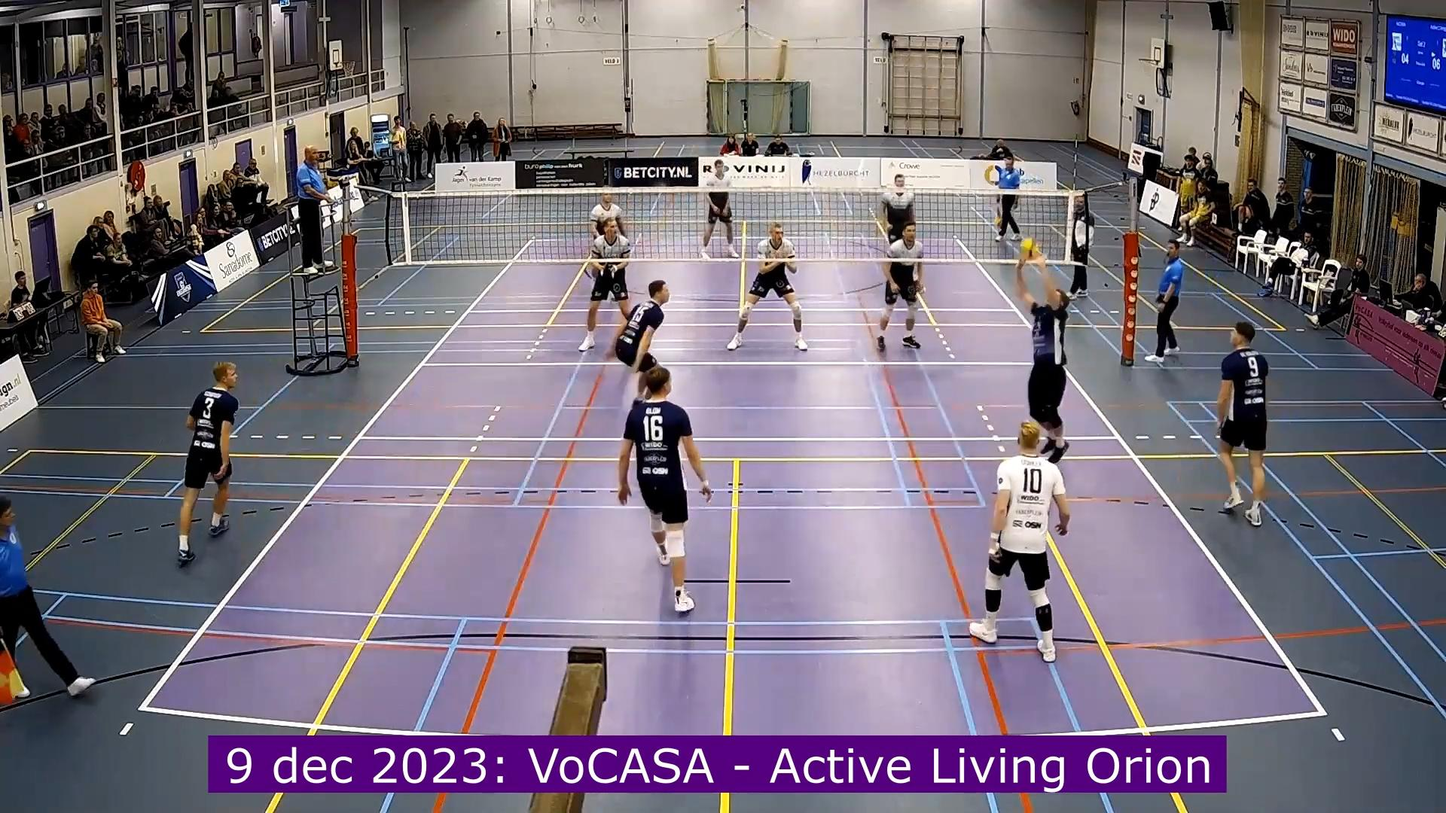alzata: (1004, 257, 1073, 469)
